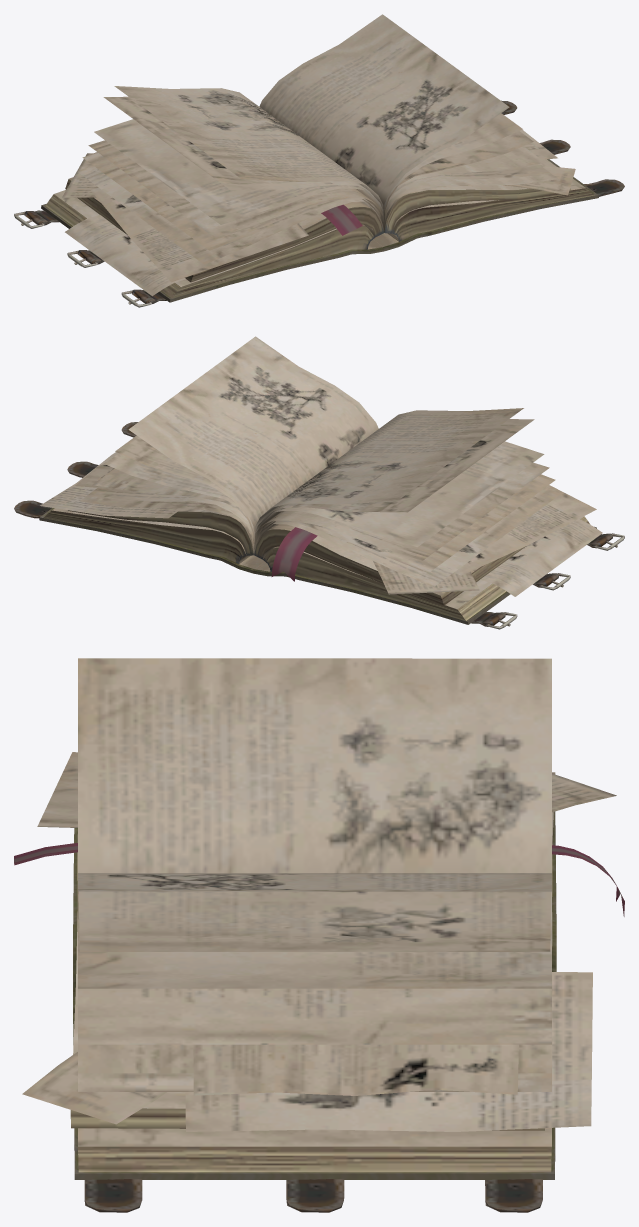
File: Book1.fbx
The picture shows the model from 3 angles, top to bottom: view 1: azimuth 30°, elevation 25°; view 2: azimuth 150°, elevation 25°; view 3: azimuth 270°, elevation 25°; orthographic projection. The views are drawn at different scales.
Parts seen in each view (by area): view 1: SM_book_91_LOD0; view 2: SM_book_91_LOD0; view 3: SM_book_91_LOD0.
Part boxes in pixels (box(x1,y1,x2,y2)): SM_book_91_LOD0: box(14, 14, 624, 307); SM_book_91_LOD0: box(14, 336, 624, 629); SM_book_91_LOD0: box(14, 658, 624, 1212).
Size of the model in its own units: 76.56 by 16.95 by 44.11.
